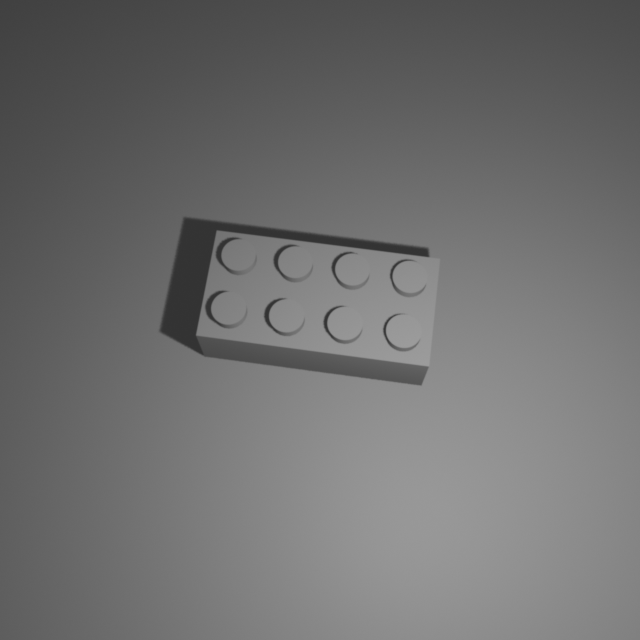lego_2x4: (194, 226, 442, 386)
